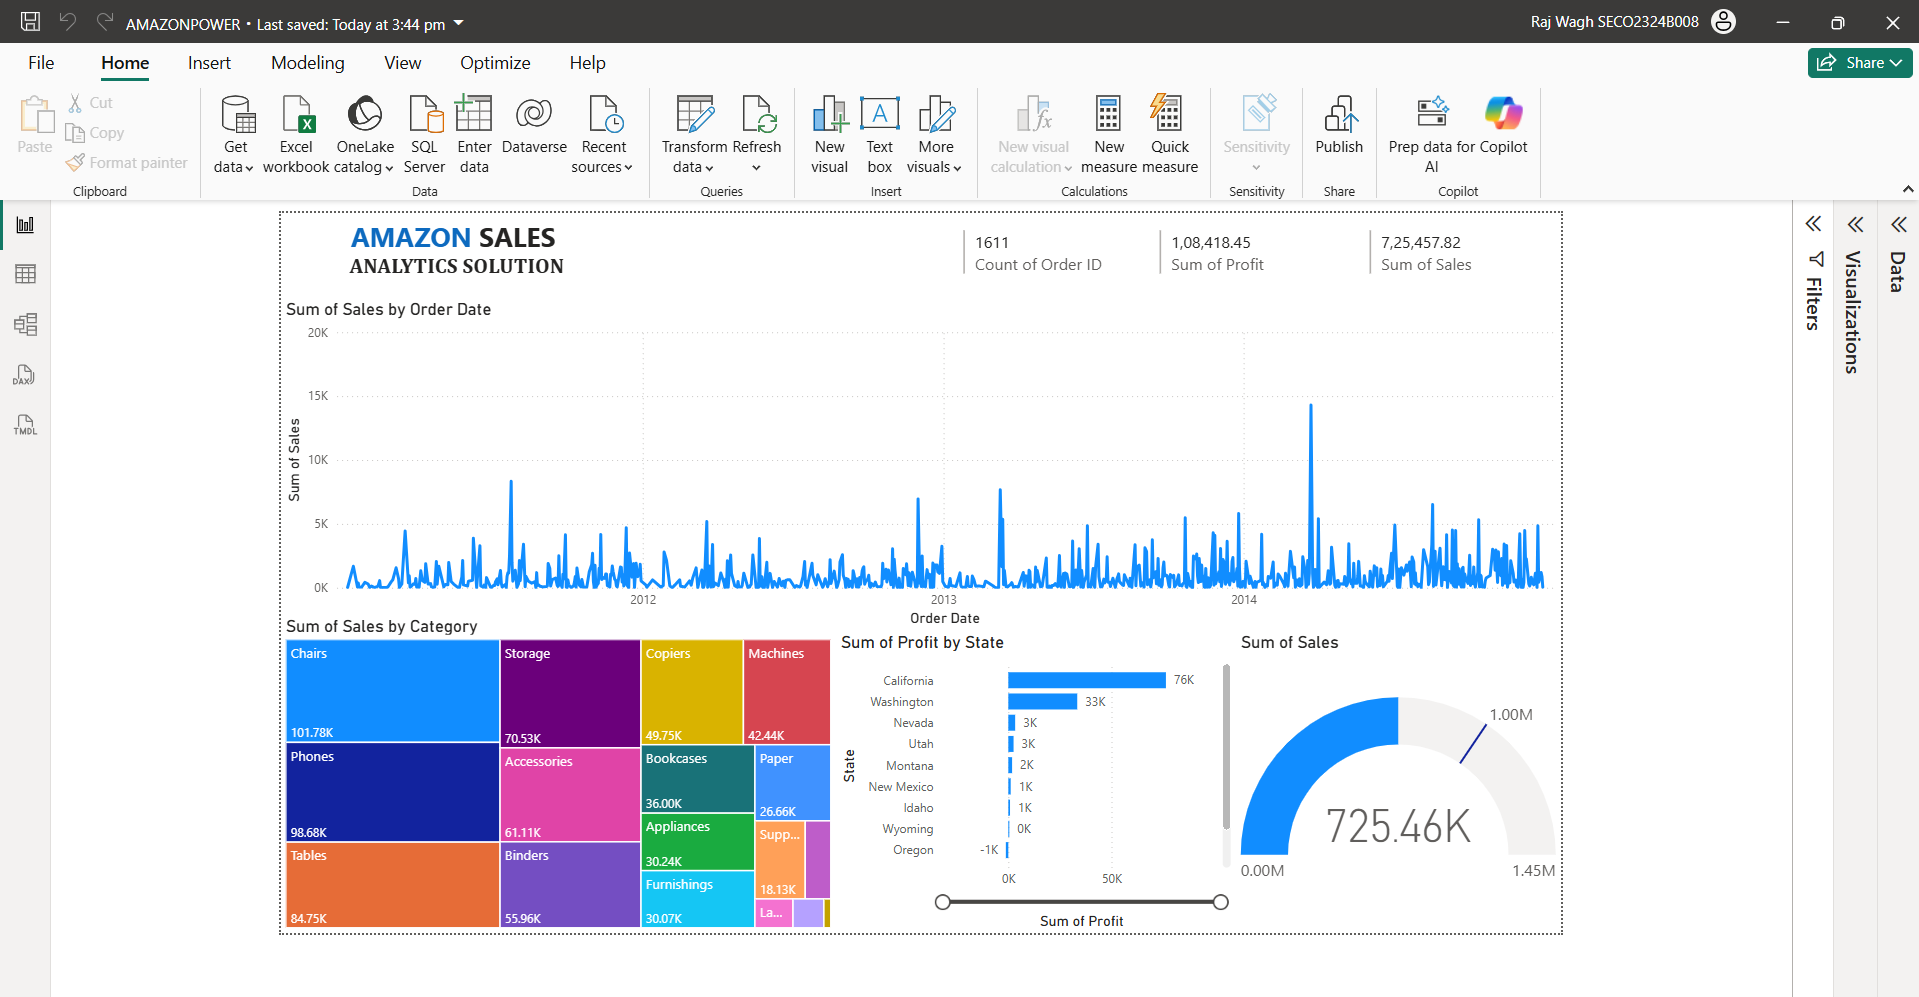

The page's visual inventory and layout, read from the dashboard file:
{"tool":"powerbi","page":{"name":"Page 1","canvas":[1280,720],"ordinal":0},"visuals":[{"type":"multiRowCard","fields":{"Values":["Sum(Walmart.Sales)"]},"box":[1083.8,12.5,196.2,100],"z":0},{"type":"multiRowCard","fields":{"Values":["Sum(Walmart.Profit)"]},"box":[873.8,12.5,210,100],"z":1000},{"type":"textbox","box":[150,253,300,300],"z":2000},{"type":"textbox","box":[150,563,300,157],"z":3000},{"type":"lineChart","fields":{"Category":["Walmart.Order Date"],"Y":["Sum(Walmart.Sales)"]},"box":[0,86.2,1280,332.5],"z":4000},{"type":"treemap","fields":{"Group":["Walmart.Category"],"Values":["Sum(Walmart.Sales)"]},"box":[0,402.5,555,317.5],"z":5000},{"type":"barChart","fields":{"Category":["Walmart.State"],"Y":["Sum(Walmart.Profit)"]},"box":[554.7,418.6,400,301.2],"z":6000},{"type":"gauge","fields":{"Y":["Sum(Walmart.Sales)"]},"box":[955,418.8,325,301.2],"z":7000},{"type":"textbox","box":[14.7,0,321.6,74.6],"z":8000},{"type":"multiRowCard","fields":{"Values":["Count(Walmart.Order ID)"]},"box":[677.4,12.2,196.9,95.4],"z":9000}]}

Visuals, with their boxes on the page's 1280x720 design canvas (x1, y1, x2, y2). These are canvas units, not pixel positions in the 1919x997 screenshot, which may show the page scaled, cropped or inside an application window:
multiRowCard - Sum(Walmart.Sales): locate(1084, 12, 1280, 112)
multiRowCard - Sum(Walmart.Profit): locate(874, 12, 1084, 112)
textbox: locate(150, 253, 450, 553)
textbox: locate(150, 563, 450, 720)
lineChart - Walmart.Order Date x Sum(Walmart.Sales): locate(0, 86, 1280, 419)
treemap - Walmart.Category x Sum(Walmart.Sales): locate(0, 402, 555, 720)
barChart - Walmart.State x Sum(Walmart.Profit): locate(555, 419, 955, 720)
gauge - Sum(Walmart.Sales): locate(955, 419, 1280, 720)
textbox: locate(15, 0, 336, 75)
multiRowCard - Count(Walmart.Order ID): locate(677, 12, 874, 108)
